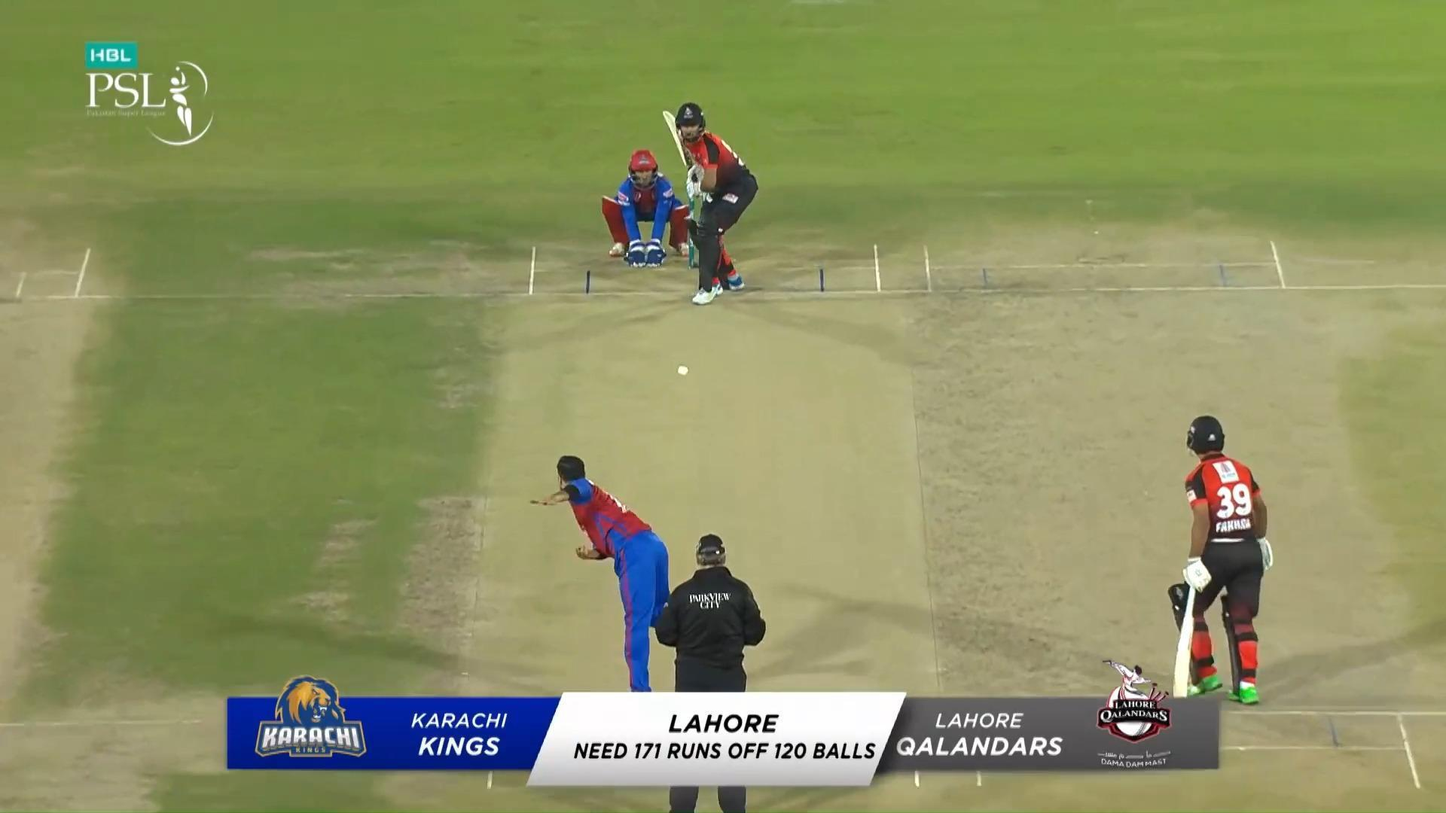BM 1: (662, 103, 758, 305)
BO: (530, 453, 672, 694)
